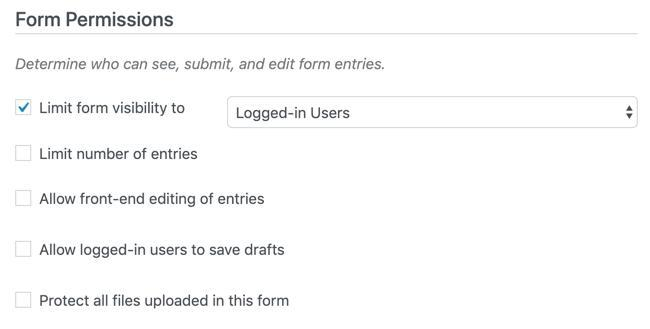checkbox: (15, 241, 33, 259), (15, 292, 33, 309), (16, 100, 33, 117), (15, 191, 33, 207), (16, 146, 32, 162)
dropdown: (227, 96, 640, 130)
label: (37, 291, 292, 311), (39, 191, 269, 211), (39, 244, 288, 260), (39, 146, 202, 165), (39, 100, 187, 119)
